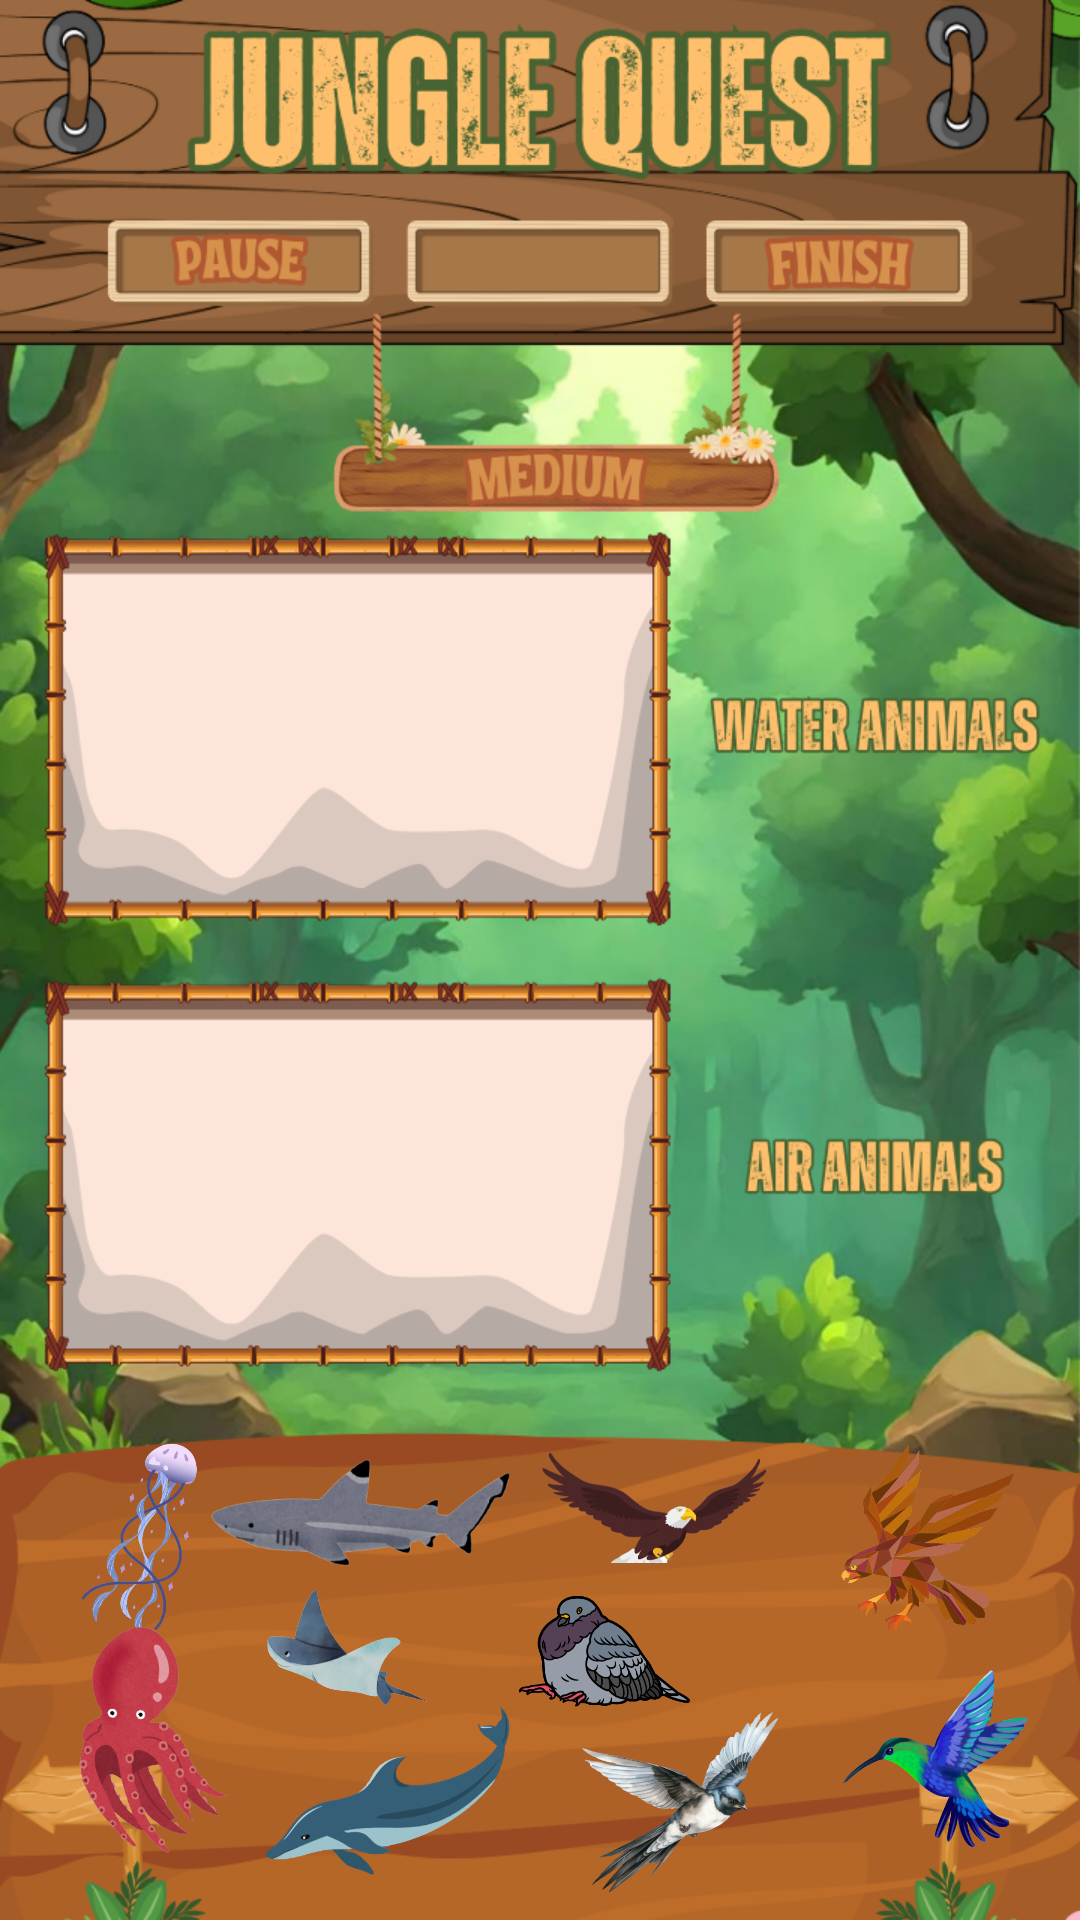

Where to tap for icons on this 1080px x 1920px app screen, as [x,y]:
Draggable Eagle: [654,1508]
Draggable Falcon: [926,1538]
Draggable Hummingbird: [941,1762]
Draggable Jellyfish: [139,1535]
Draggable Octopus: [147,1740]
Draggable Pigeon: [604,1651]
Draggable Shark: [360,1504]
Draggable Stingray: [347,1647]
Draggable Swift: [679,1798]
